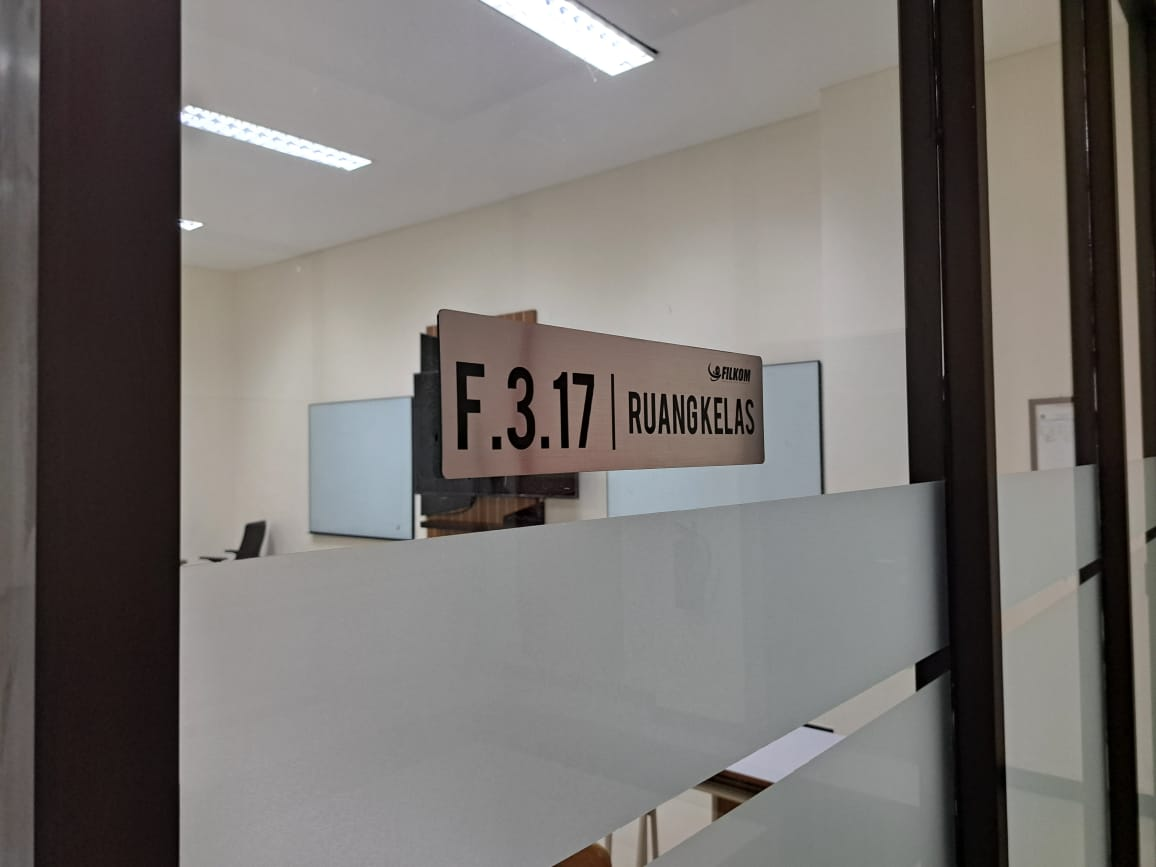ruang kelas: (432, 299, 768, 479)
